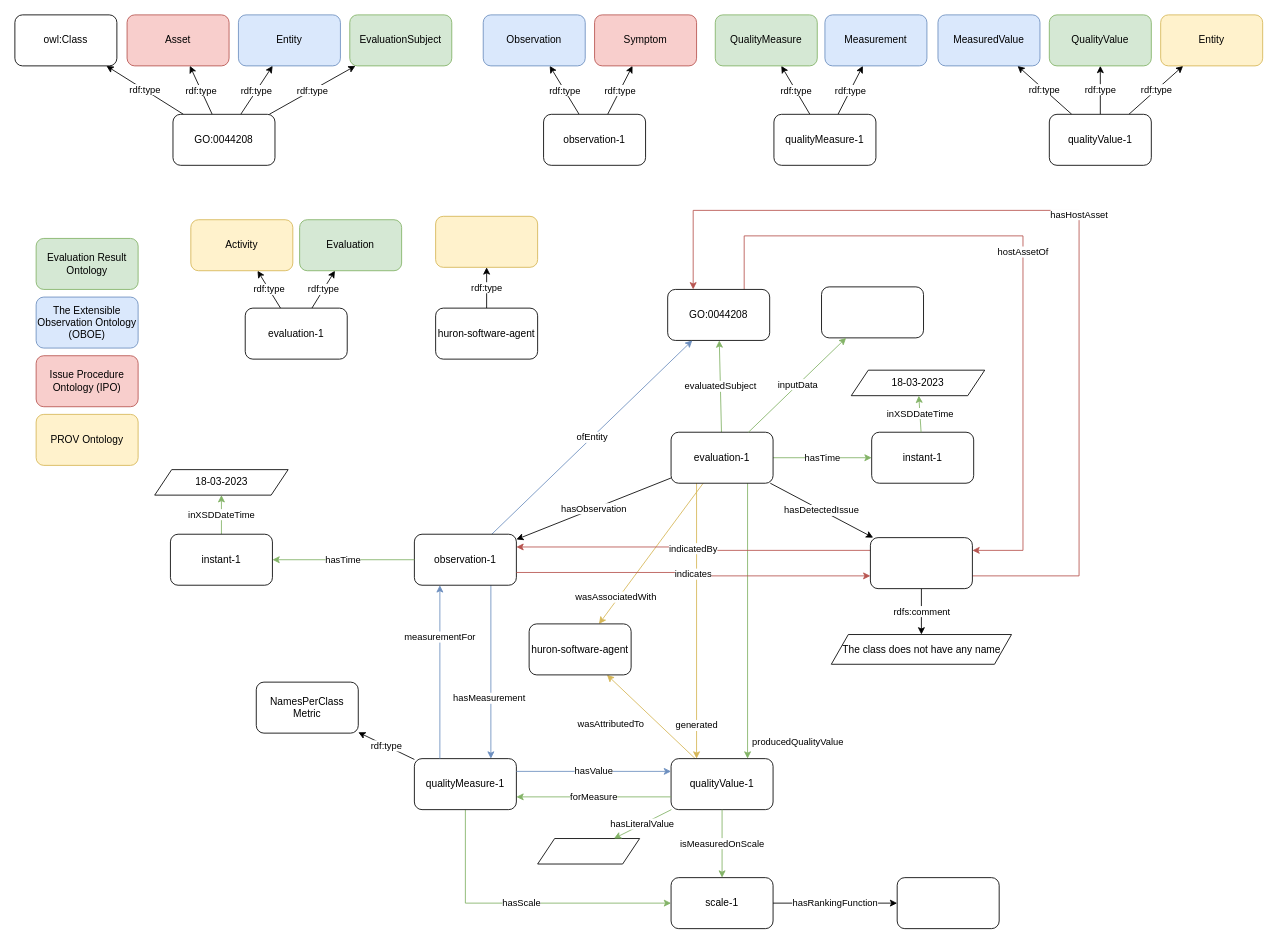
The diagram is 1278 pixels wide and 944 high, and some of its shapes have lost their labels. Here are the shapes that lost their labels. From the top down, the centre of each, then its label:
At point 486,241: "Agent".
At point 872,312: "GeneOntology".
At point 921,563: "issue-1".
At point 588,851: "0^^xsd:integer".
At point 947,903: "HigherBest".
